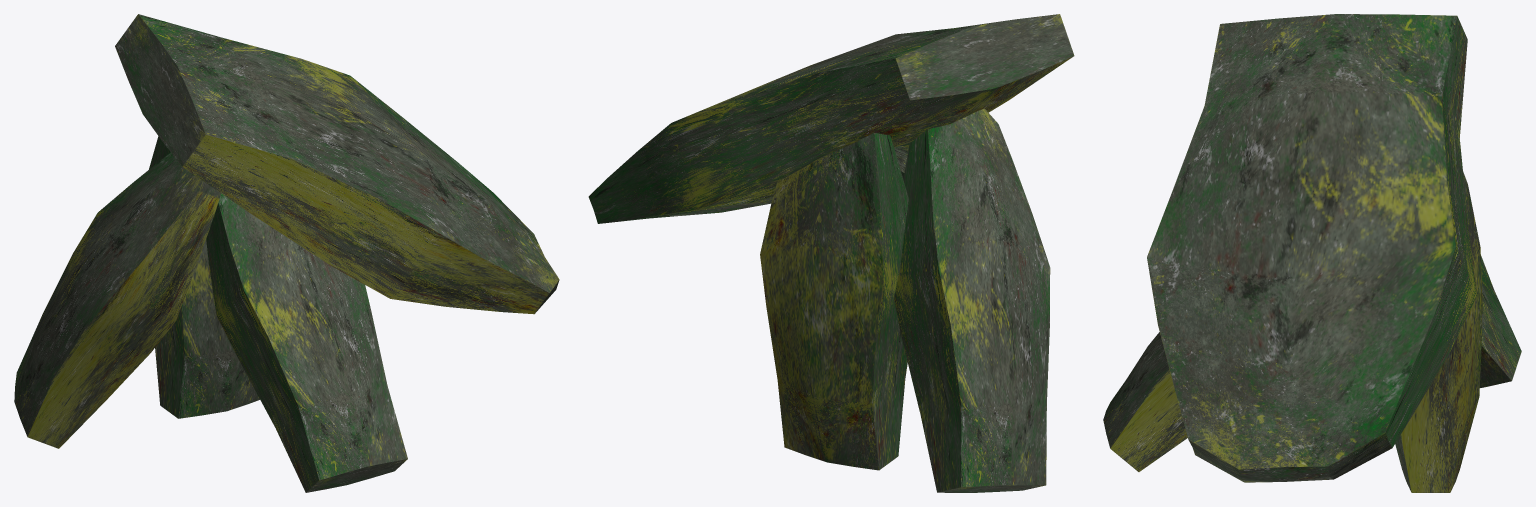
Rendered from Capsula_Final.fbx.
3 views of the same model, side by side, from view 1: azimuth 30°, elevation 25°; view 2: azimuth 150°, elevation 25°; view 3: azimuth 270°, elevation 25° (orthographic). The views are drawn at different scales.
Visible parts, largest first — view 1: Capsula; view 2: Capsula; view 3: Capsula.
Part boxes in pixels (x1,y1,x2,y2): Capsula: [14, 14, 559, 492]; Capsula: [588, 14, 1074, 492]; Capsula: [1103, 14, 1521, 492].
Size of the model in its own units: 417 by 342 by 306.
1 material, 1 textured.
